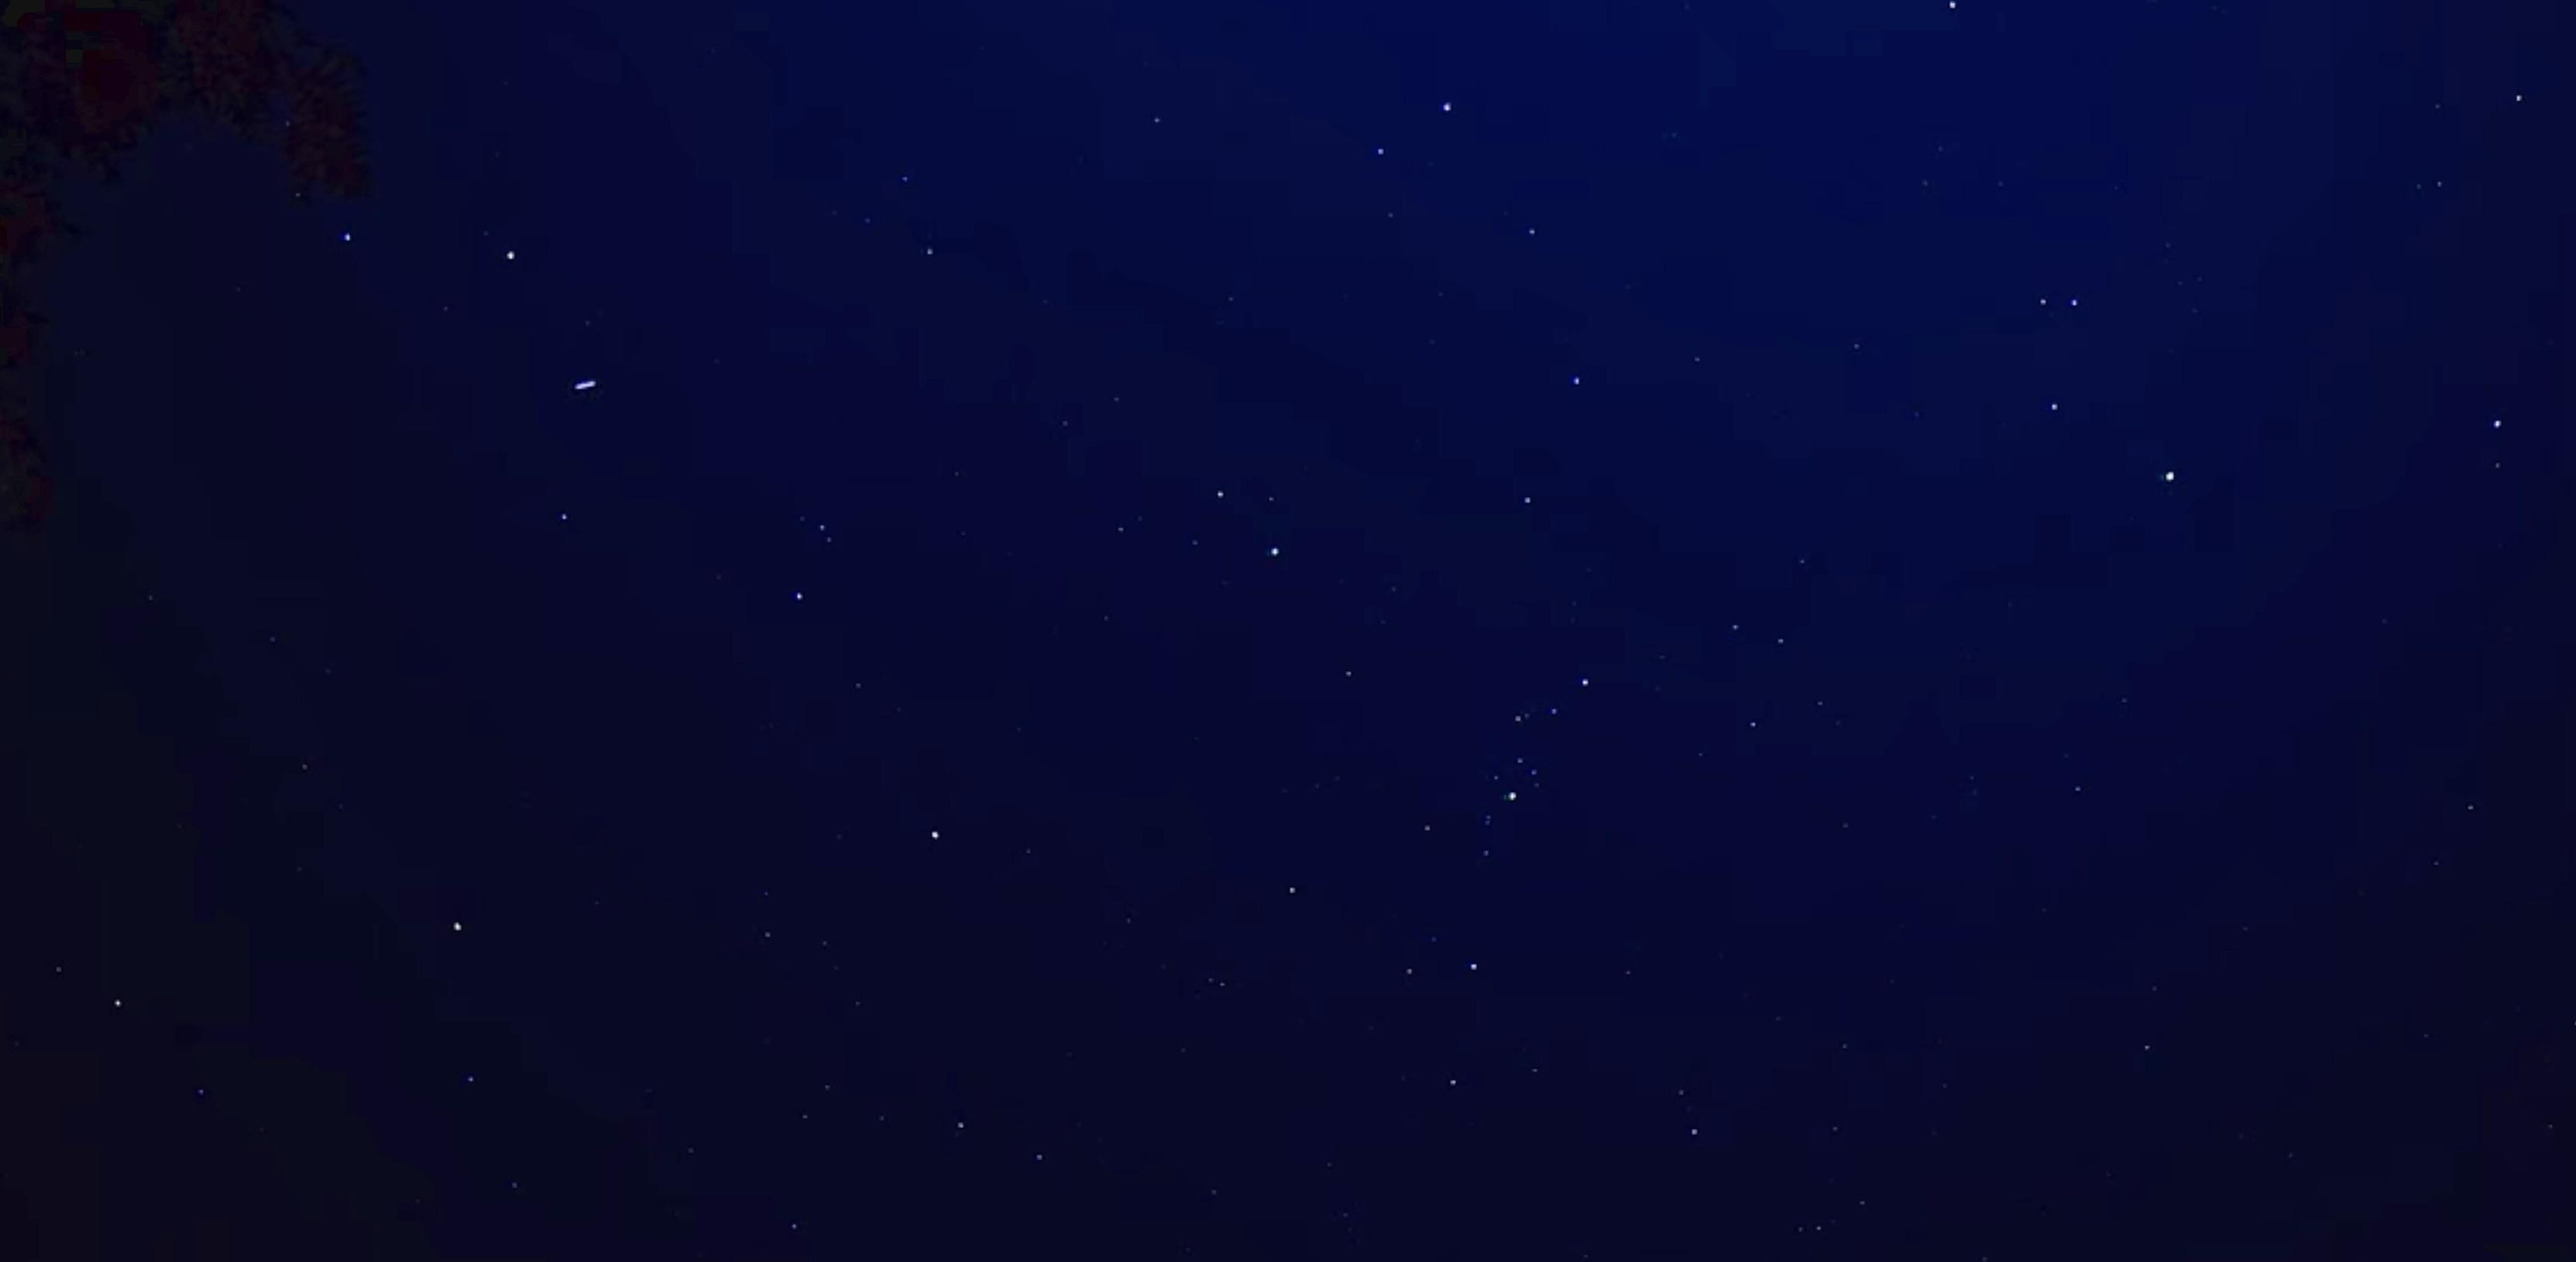meteorite: (554, 365, 618, 401)
